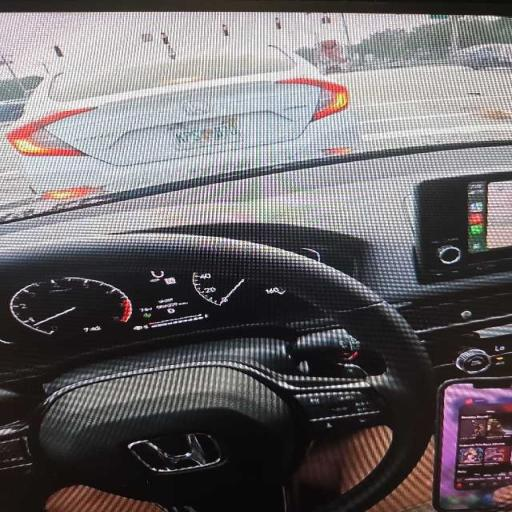car: (0, 58, 511, 511), (7, 46, 356, 198), (0, 76, 43, 123), (452, 44, 511, 69)
lane: (329, 66, 511, 150)
